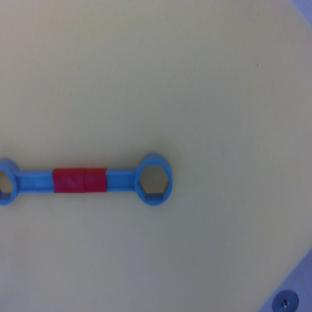part_3_good: (0, 153, 173, 205)
